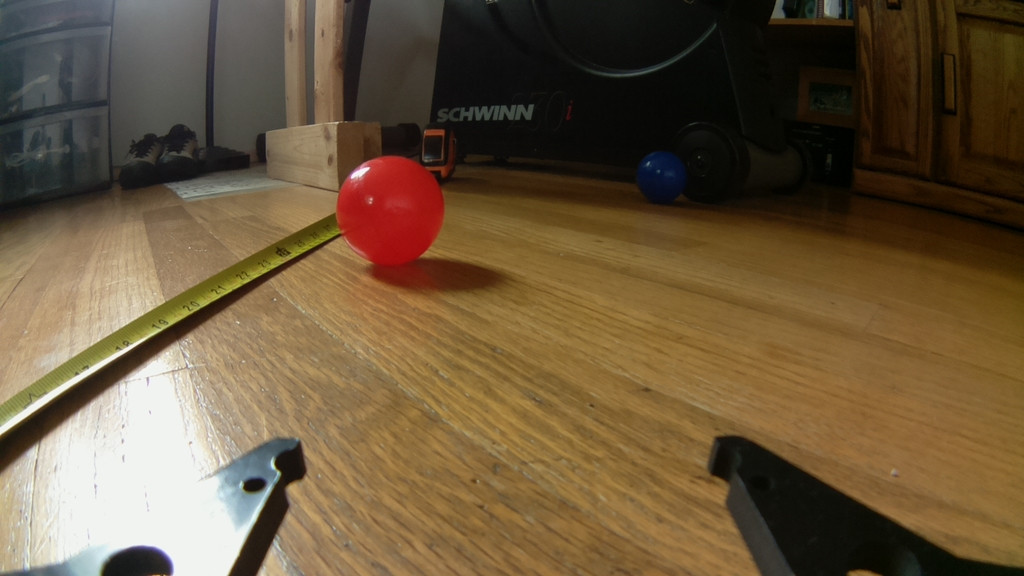ball: (336, 153, 448, 267)
